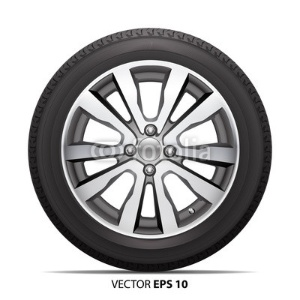tire: (31, 26, 274, 274)
